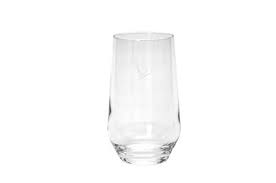glass: (103, 29, 187, 169)
